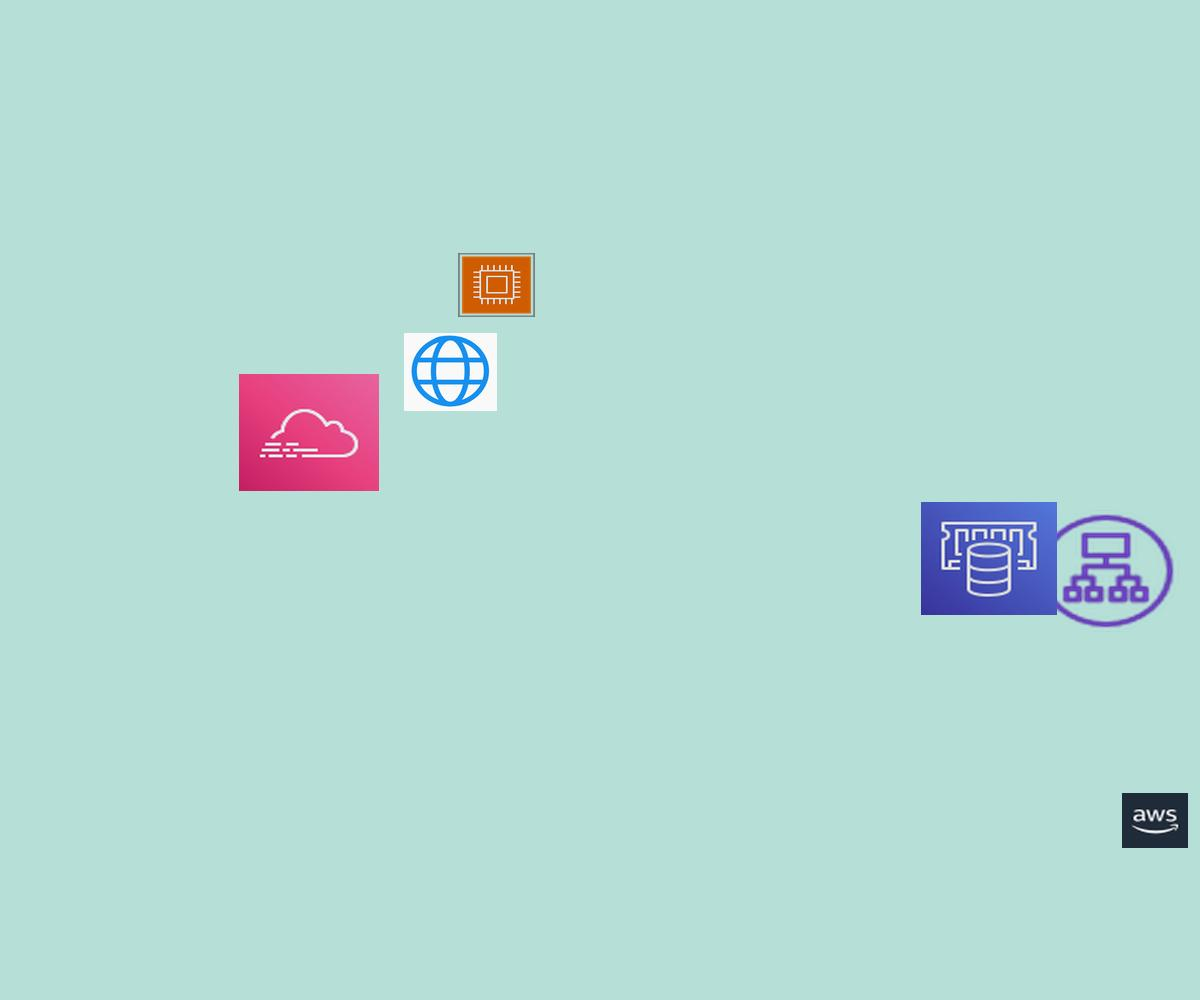AWS-Category_Compute: (458, 253, 535, 317)
AWS-Cloud-logo: (1122, 793, 1188, 848)
AWS-CloudTrail: (239, 374, 379, 491)
AWS-ElastiCache: (921, 502, 1057, 615)
AWS-Res_Elastic-Load-Balancing_Application-Load-Balancer: (1033, 510, 1179, 632)
Azure_http: (404, 333, 497, 411)
